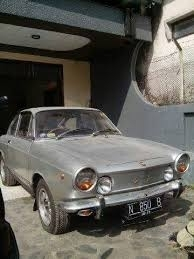plate: (127, 197, 162, 214)
